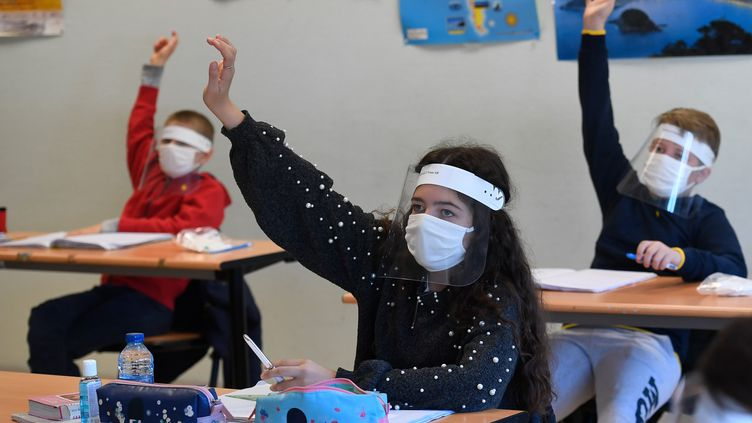with_mask: (397, 170, 478, 275), (147, 111, 222, 184), (642, 125, 707, 203)
